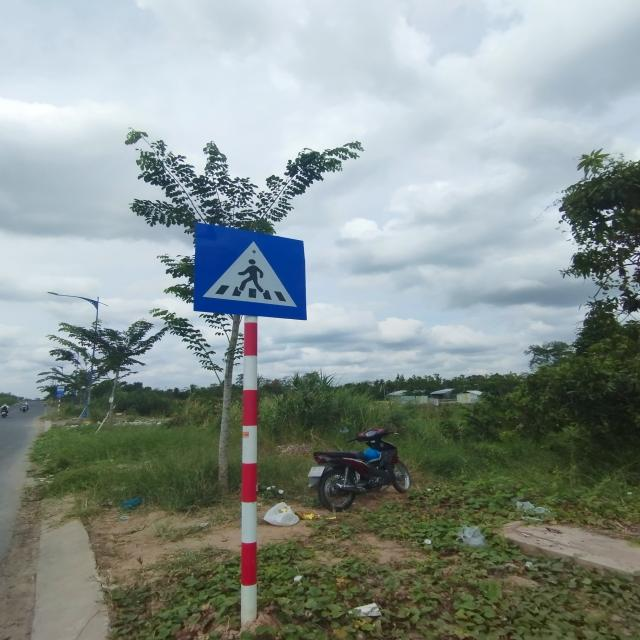Giao_Nhau_Duong_Uu_Tien: (193, 222, 307, 320)
